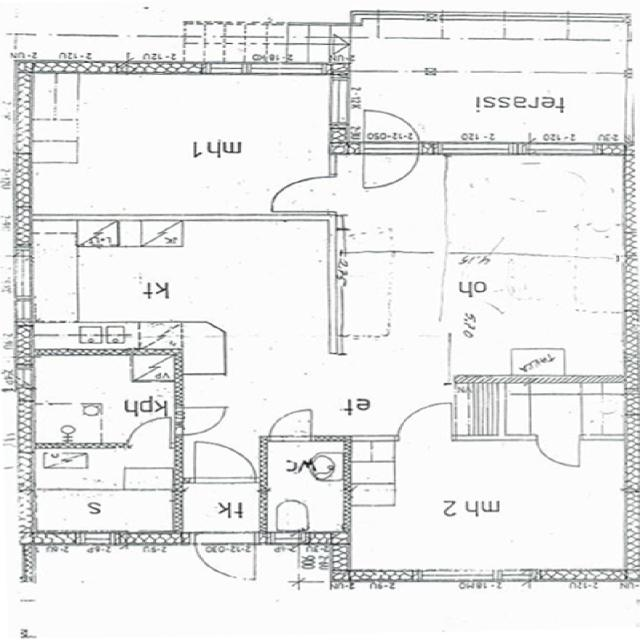door: (184, 437, 262, 485), (189, 532, 259, 584), (392, 398, 458, 446), (358, 143, 422, 191), (266, 174, 336, 213), (358, 107, 423, 144), (172, 402, 232, 438), (266, 406, 320, 442), (531, 433, 584, 469), (125, 415, 176, 449)
window: (13, 580, 39, 636), (528, 142, 605, 158)
zone: (29, 74, 338, 218), (342, 435, 636, 580), (24, 220, 333, 350), (350, 17, 620, 145), (450, 254, 630, 380), (444, 153, 626, 256), (22, 356, 176, 449), (262, 438, 350, 537), (28, 489, 180, 544), (27, 446, 179, 492), (178, 481, 266, 538), (453, 380, 535, 441)
